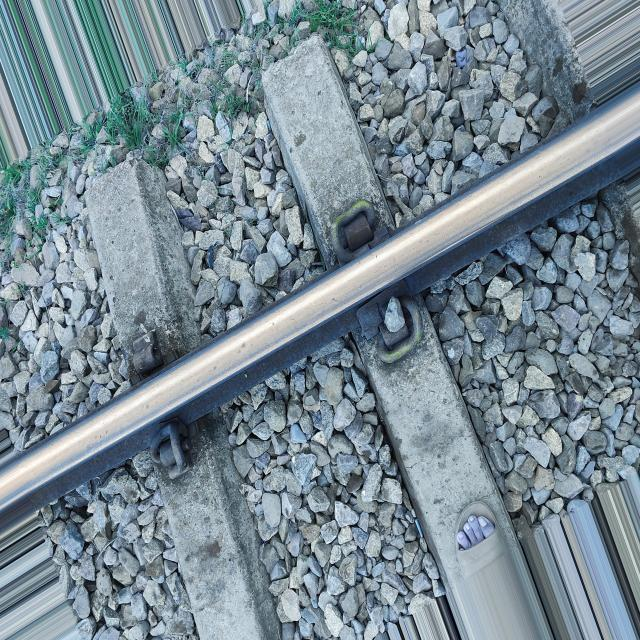Good Fasteners: (341, 290, 424, 363), (331, 200, 388, 266), (150, 420, 195, 479)
Missing Fastener: (122, 324, 164, 377)
